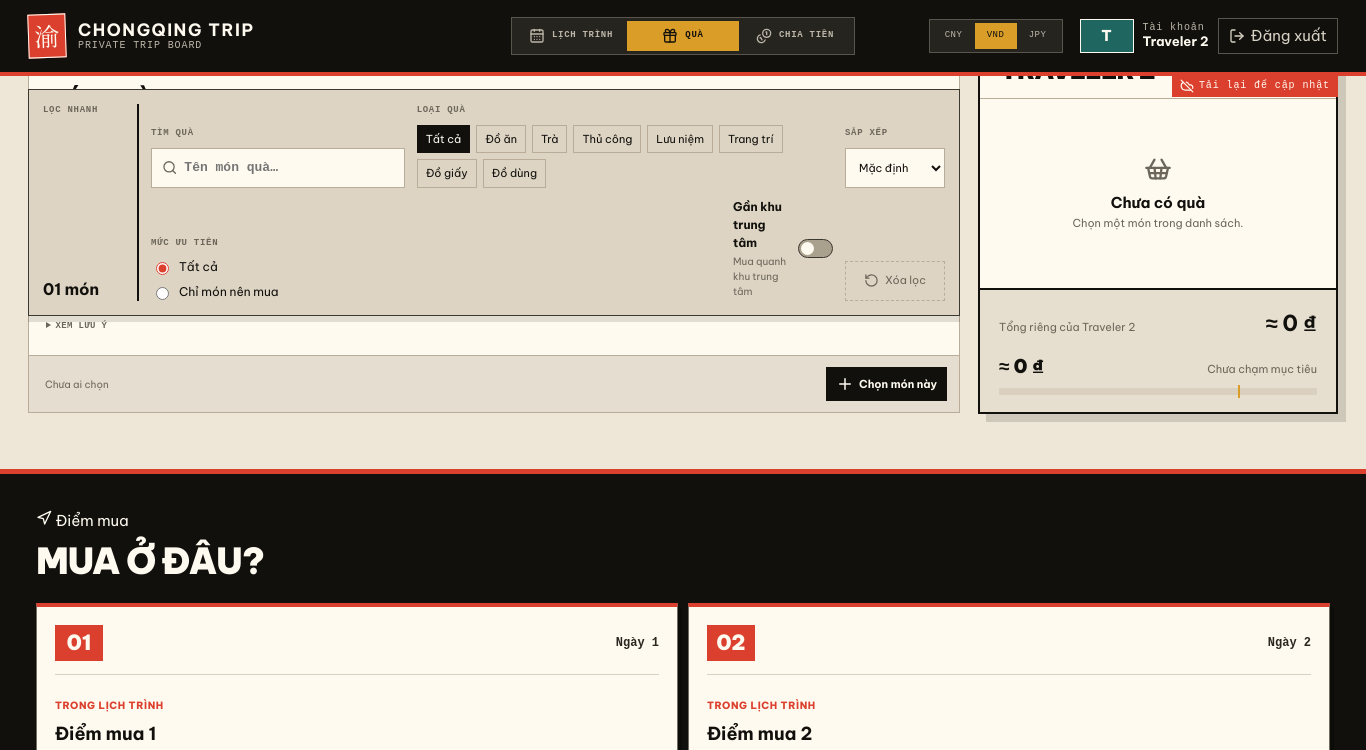
GiftPlanner › gives up with an error when the conflict keeps repeating
The image size is (1366, 750).
(page scrolled)
Click the button "Chọn món này" at (887, 384), box [826,367,947,401]
(page scrolled)
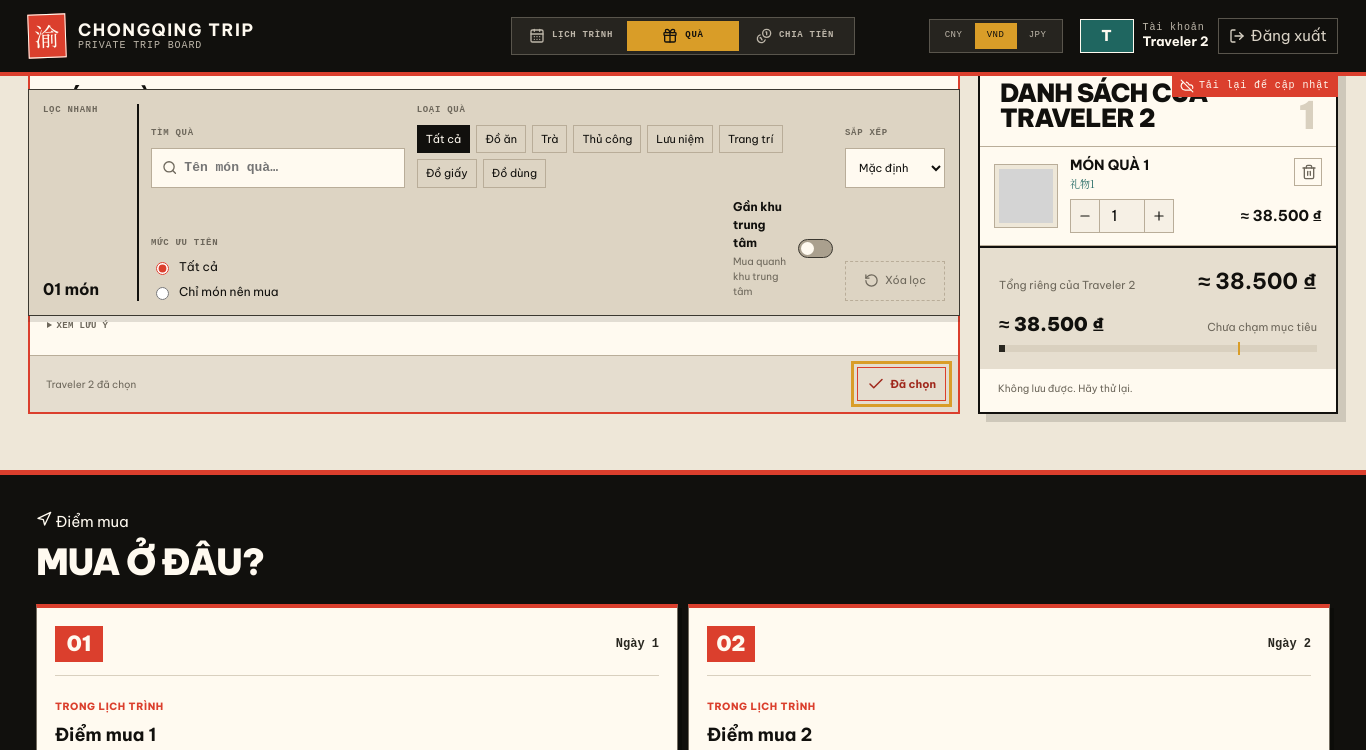
expect the text "Không lưu được. Hãy thử lại." is shown: met, box [998,382,1133,395]
